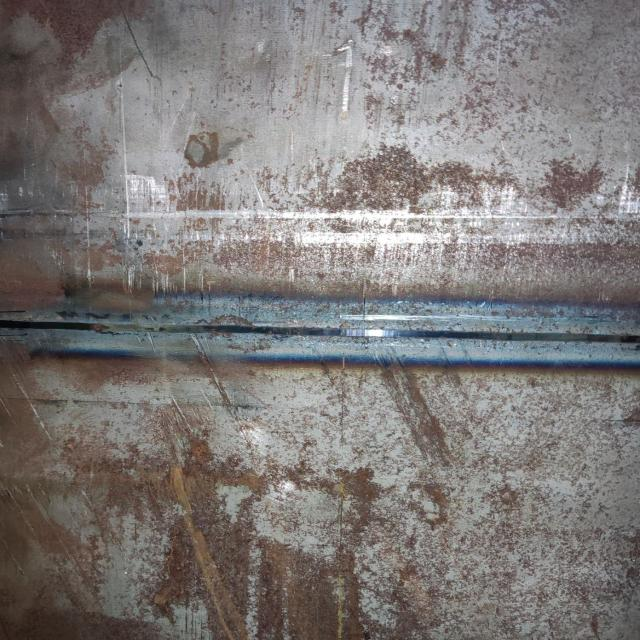seam: (0, 269, 639, 383)
